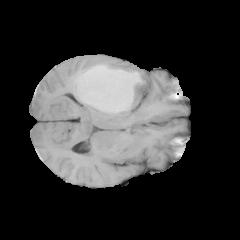glioma: (65, 56, 161, 129)
